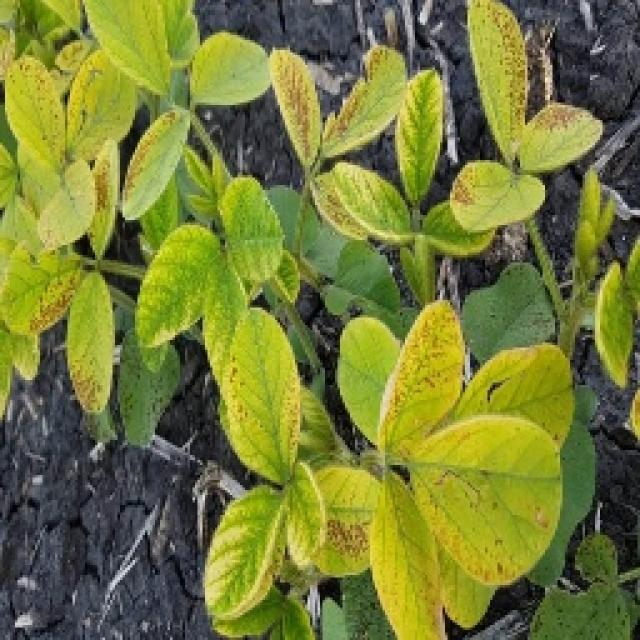Chlorosis: (8, 11, 587, 614)
